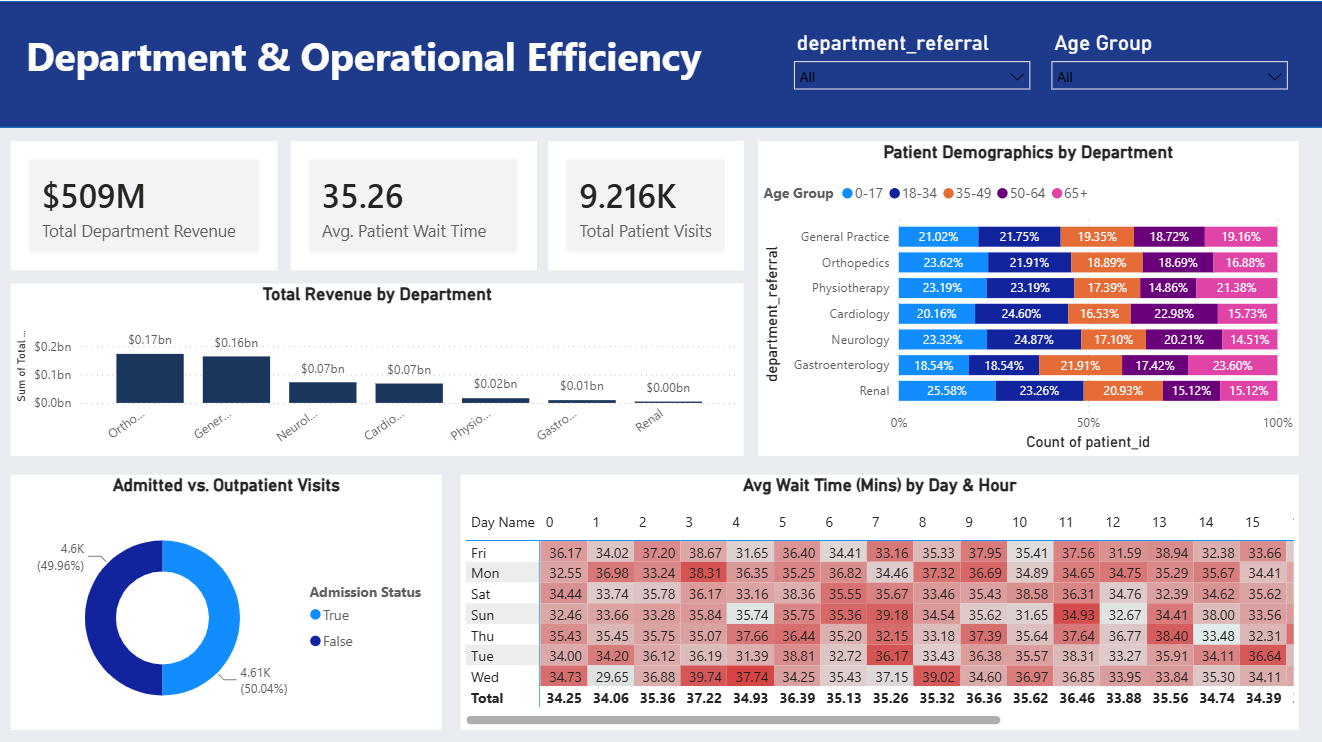

The dashboard page shown, as its layout file describes it:
{"tool":"powerbi","page":{"name":"Department and Operational Eficiency","canvas":[1280,720],"ordinal":2},"visuals":[{"type":"shape","box":[0,0,1280.3,122.3],"z":0},{"type":"slicer","fields":{"Values":["Fact_Visits.department_referral"]},"box":[759.4,23.2,248.2,74.6],"z":1000},{"type":"textbox","box":[19.6,23.2,668.9,74.6],"z":2000},{"type":"slicer","fields":{"Values":["Fact_Visits.Age Group"]},"box":[1007.6,23.2,248.2,74.6],"z":3000},{"type":"cardVisual","fields":{"Data":["Sum(Fact_Doctor_Billing.Total Bill)"]},"box":[0,122.3,264.1,150.4],"z":3001},{"type":"cardVisual","fields":{"Data":["Count(Fact_Visits.patient_id)"]},"box":[520.9,122.3,203,150.4],"z":3002},{"type":"cardVisual","fields":{"Data":["Avg(Fact_Visits.patient_waittime)"]},"box":[264.1,122.3,256.8,150.4],"z":3003},{"type":"clusteredColumnChart","title":"Total Revenue by Department","fields":{"Category":["Fact_Visits.department_referral"],"Y":["Sum(Fact_Doctor_Billing.Total Bill)"]},"box":[13.8,272.5,675,223.8],"z":3004},{"type":"pivotTable","title":"Avg Wait Time (Mins) by Day & Hour","fields":{"Rows":["Fact_Visits.Day Name"],"Columns":["Fact_Visits.Hour"],"Values":["Avg(Fact_Visits.patient_waittime)"]},"box":[447.6,496.5,808.3,223.8],"z":3005},{"type":"hundredPercentStackedBarChart","title":"Patient Demographics by Department","fields":{"Category":["Fact_Visits.department_referral"],"Y":["CountNonNull(Fact_Visits.patient_id)"],"Series":["Fact_Visits.Age Group"]},"box":[712.5,122.5,567.5,303.8],"z":3006},{"type":"donutChart","title":"Admitted vs. Outpatient Visits","fields":{"Category":["Fact_Visits.patient_admin_flag"],"Y":["CountNonNull(Fact_Visits.patient_id)"]},"box":[19.6,507.5,415.8,212.8],"z":3007}]}

Visuals, with their boxes in screenshot pixels (x1, y1, x2, y2), scaled from the page's 1280x720 canvas onto the 1322x742 screenshot:
shape: <region>0, 0, 1321, 126</region>
slicer - Fact_Visits.department_referral: <region>784, 24, 1041, 101</region>
textbox: <region>20, 24, 711, 101</region>
slicer - Fact_Visits.Age Group: <region>1041, 24, 1297, 101</region>
cardVisual - Sum(Fact_Doctor_Billing.Total Bill): <region>0, 126, 273, 281</region>
cardVisual - Count(Fact_Visits.patient_id): <region>538, 126, 748, 281</region>
cardVisual - Avg(Fact_Visits.patient_waittime): <region>273, 126, 538, 281</region>
"Total Revenue by Department" clusteredColumnChart: <region>14, 281, 711, 511</region>
"Avg Wait Time (Mins) by Day & Hour" pivotTable: <region>462, 512, 1297, 741</region>
"Patient Demographics by Department" hundredPercentStackedBarChart: <region>736, 126, 1321, 439</region>
"Admitted vs. Outpatient Visits" donutChart: <region>20, 523, 450, 741</region>
